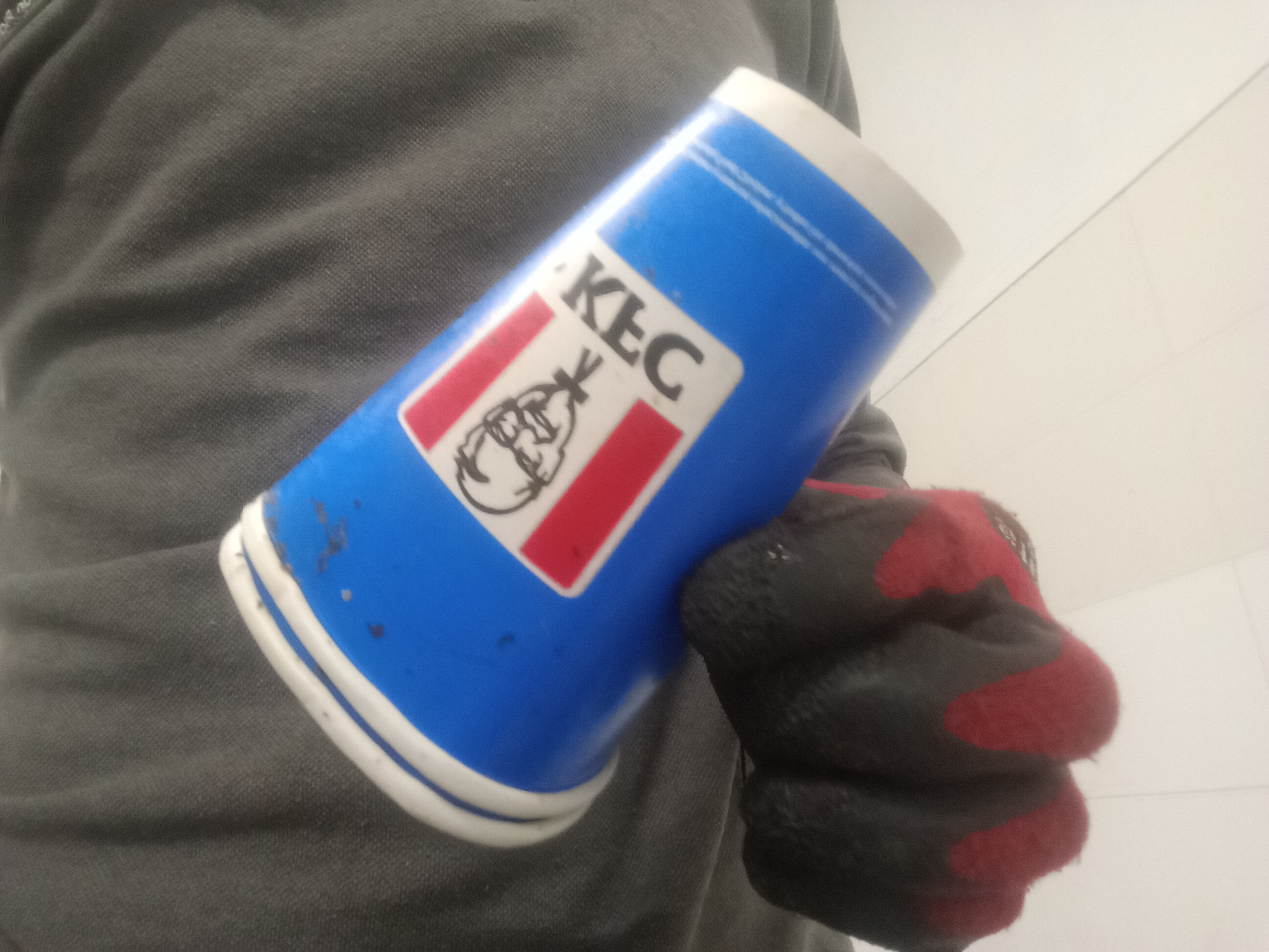Carton: (219, 69, 965, 851)
